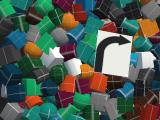Right: (94, 30, 132, 77)
